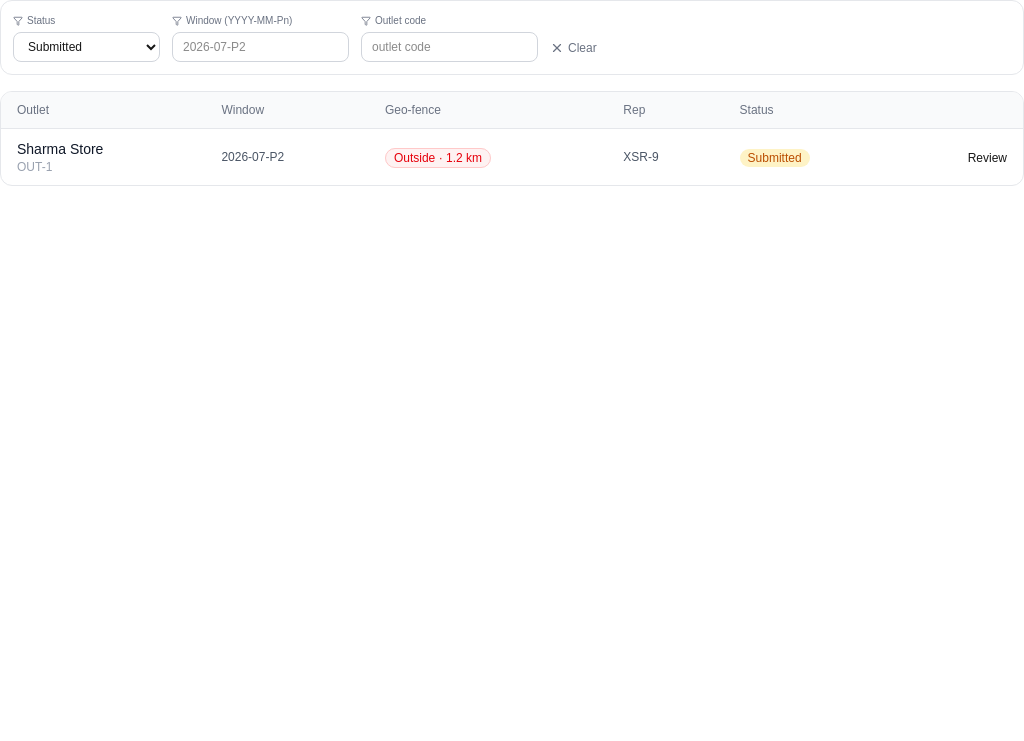
Test: VISQ — VisibilityCaptureQueue › VISQ2: the drawer shows duplicate matches + media grid
This screenshot has width=1024, height=741.
Click the button "Review". click: (987, 158)
box: [968,150,1007,166]
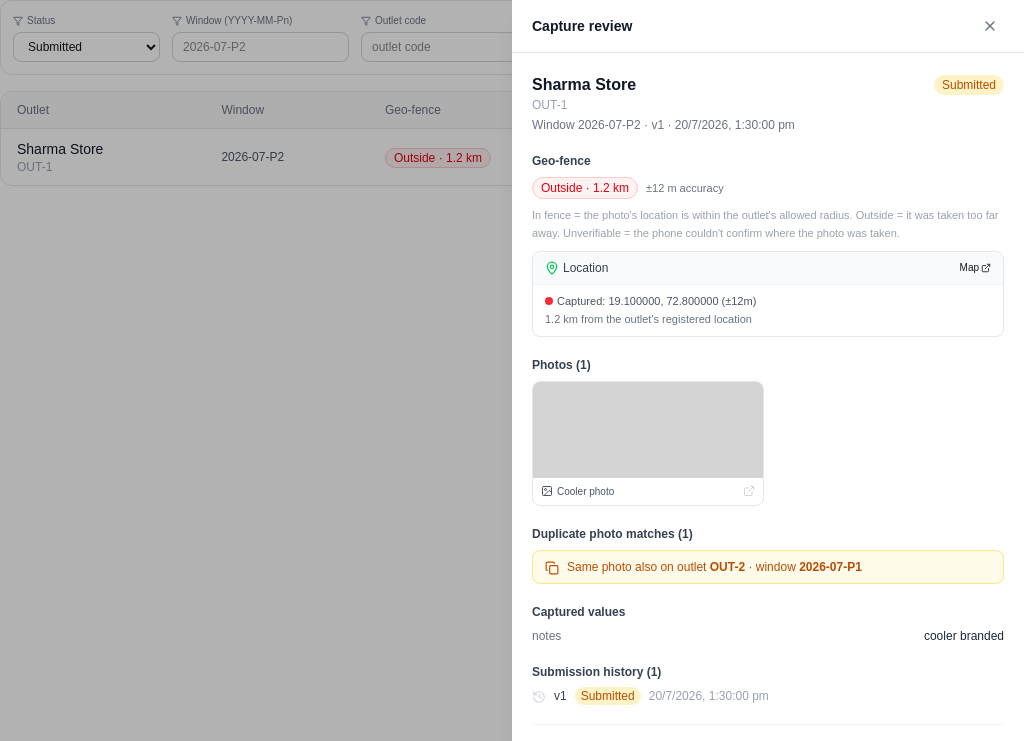
Expected: the text "Duplicate photo matches (1)" is shown, [532,527,693,541]
Expected: the text "Same photo also on outlet OUT-2 · window 2026-07-P1" is shown, [567,559,862,575]
Expected: the text "Photos (1)" is shown, [532,358,591,372]
